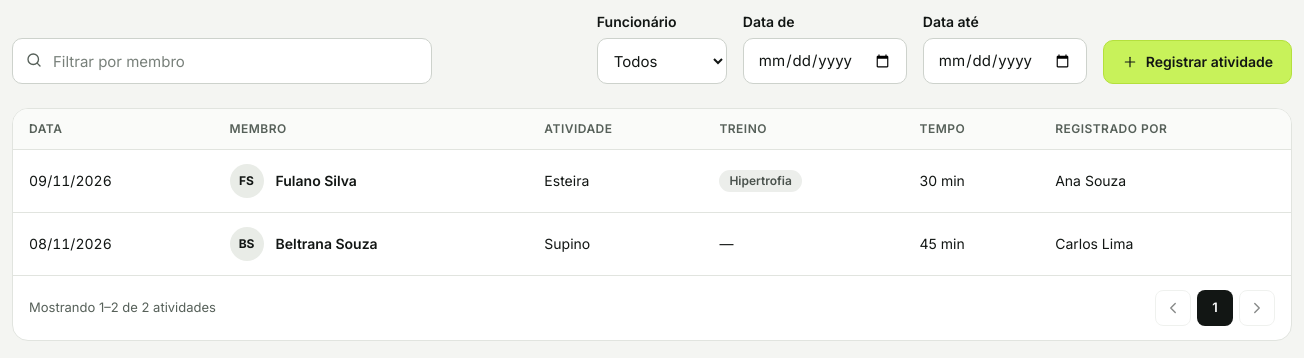
Test case: TelaHistorico › tira a tabela antiga quando a lista falha depois de um filtro
Expected: the text "Esteira" is shown, [528,150,703,212]
In the date field labelled "Data de": (825, 61) [743,38,907,84], type "2026-11-01"
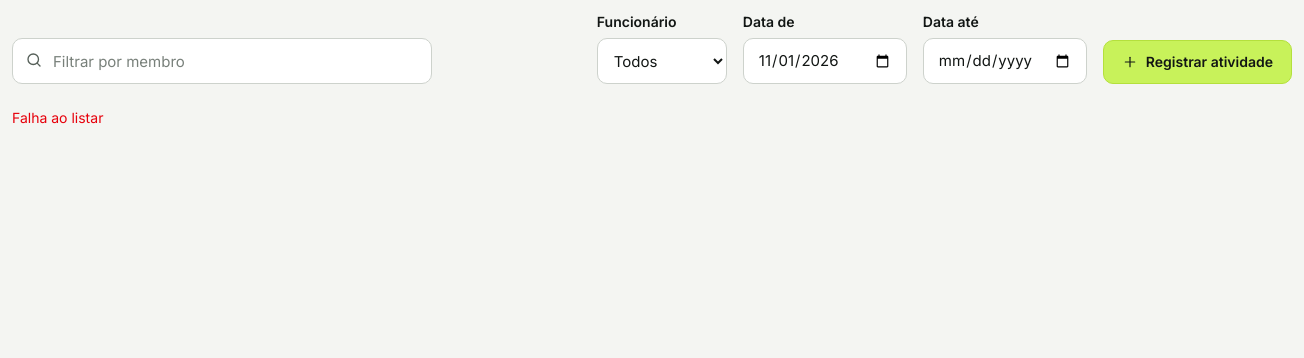
Expected: the message reads "Falha ao listar", [12,109,103,126]
Expected: the text "Esteira" is gone
